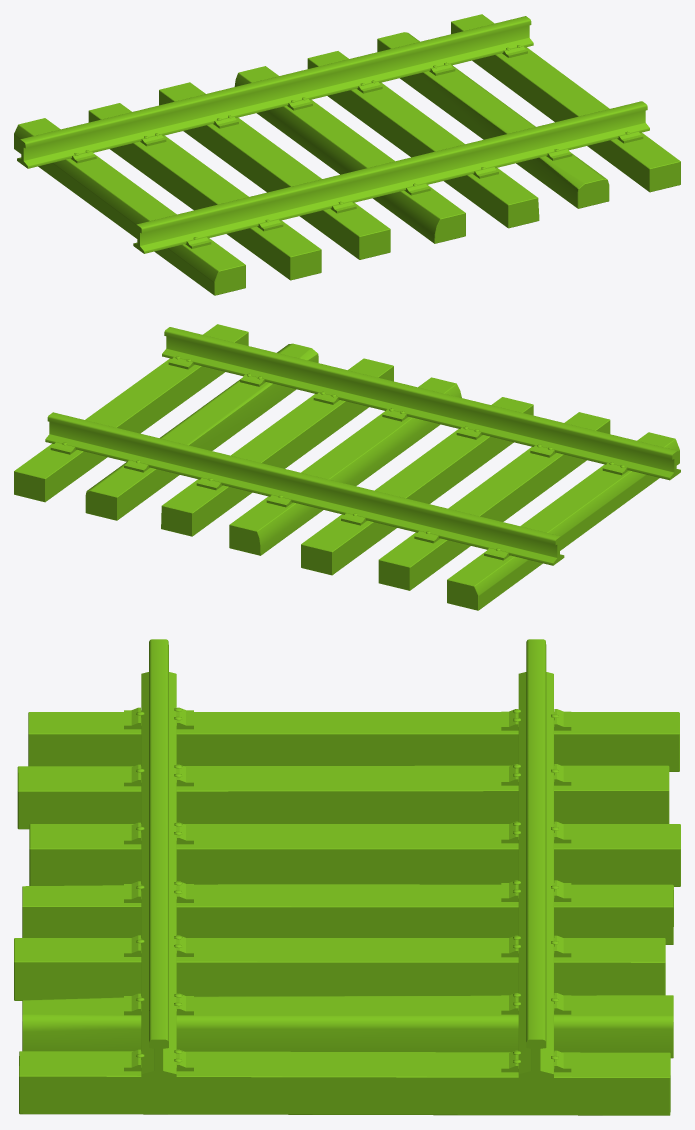
File: railroad_gav.fbx
The picture shows the model from 3 angles, top to bottom: view 1: azimuth 30°, elevation 25°; view 2: azimuth 150°, elevation 25°; view 3: azimuth 270°, elevation 25°; orthographic projection. The views are drawn at different scales.
Parts seen in each view (by area): view 1: railroad_gav; view 2: railroad_gav; view 3: railroad_gav.
Part boxes in pixels (left/top/right/bottom): railroad_gav: left=14, top=14, right=680, bottom=295; railroad_gav: left=14, top=324, right=680, bottom=610; railroad_gav: left=14, top=639, right=680, bottom=1115.
Size of the model in its own units: 4000 by 372 by 2815.
